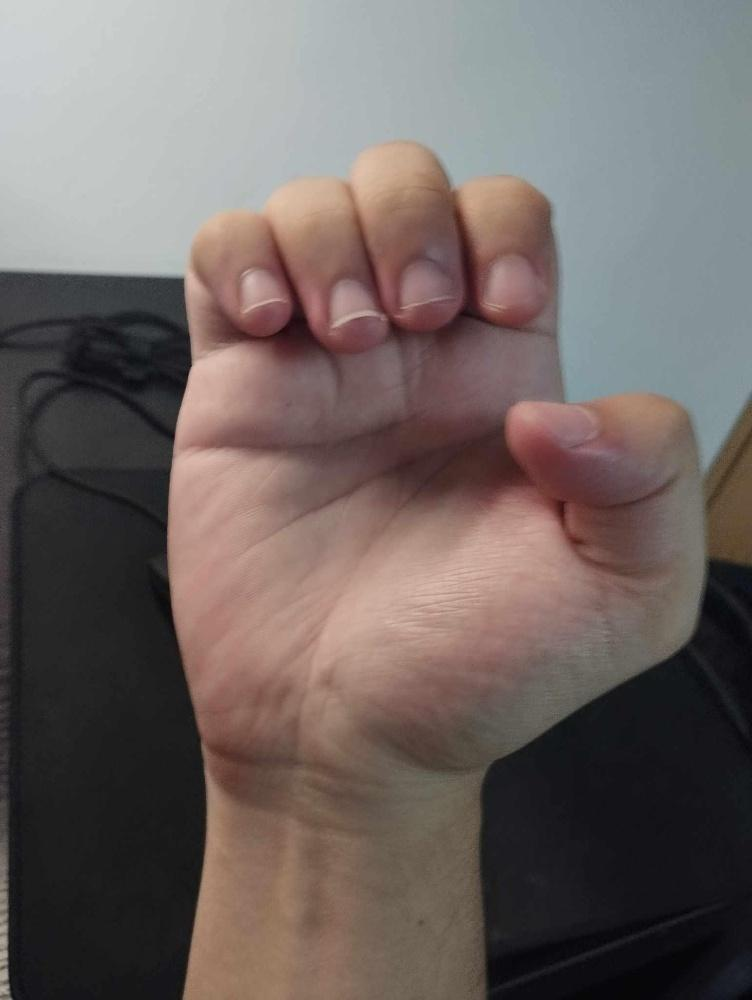e: (160, 134, 713, 790)
